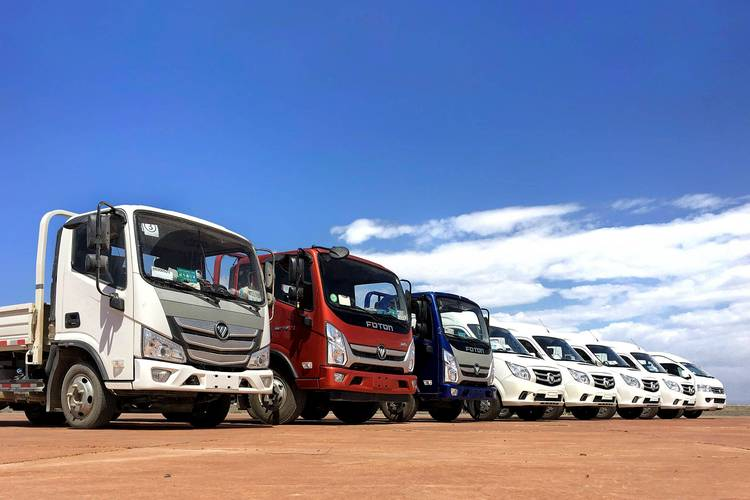卡车: (1, 198, 273, 439)
